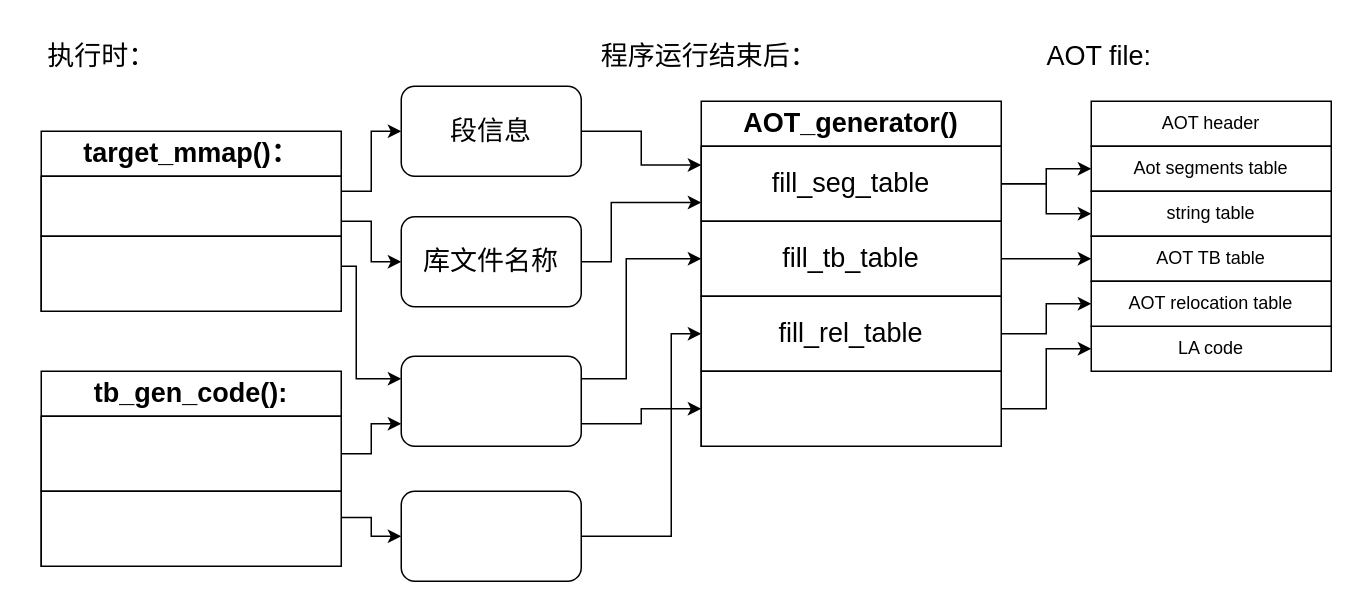
Some shapes in this 1358 by 608 pixel diagram are drawn without their labels. Here are the shapes that lost their labels. From the top down, the centre of each, then its label:
the point at 190,205: deal_seg
the point at 190,273: recover_tb
the point at 490,400: code cache
the point at 850,408: fill_ins_buff
the point at 190,453: 翻译。
the point at 190,528: 记录重定位信息。
the point at 490,535: 重定位信息
